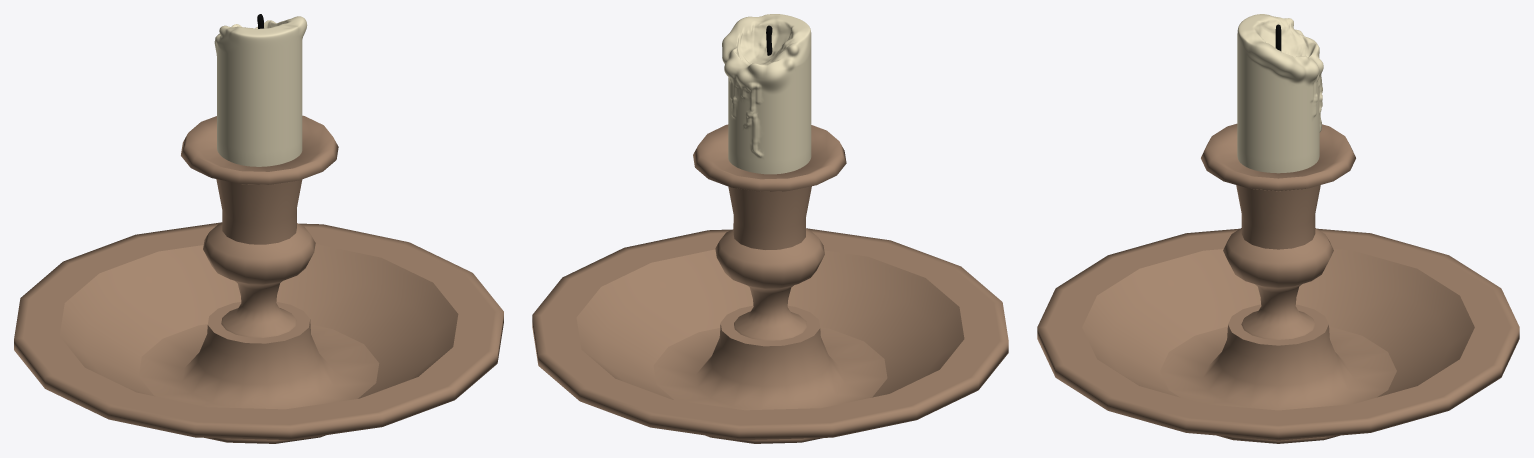
File: Candle.fbx
3 views of the same model, side by side, from view 1: azimuth 30°, elevation 25°; view 2: azimuth 150°, elevation 25°; view 3: azimuth 270°, elevation 25° (orthographic). The views are drawn at different scales.
Parts seen in each view (by area): view 1: Candle Base, Candle; view 2: Candle Base, Candle; view 3: Candle Base, Candle.
Boxes of the visible parts, x1,y1,x2,y2 form: Candle Base: (14, 115, 503, 443); Candle: (214, 16, 307, 166); Candle Base: (532, 124, 1008, 443); Candle: (722, 14, 811, 174); Candle Base: (1037, 123, 1519, 443); Candle: (1237, 14, 1323, 173).
Size of the model in its own units: 1.81 by 1.53 by 1.81.
